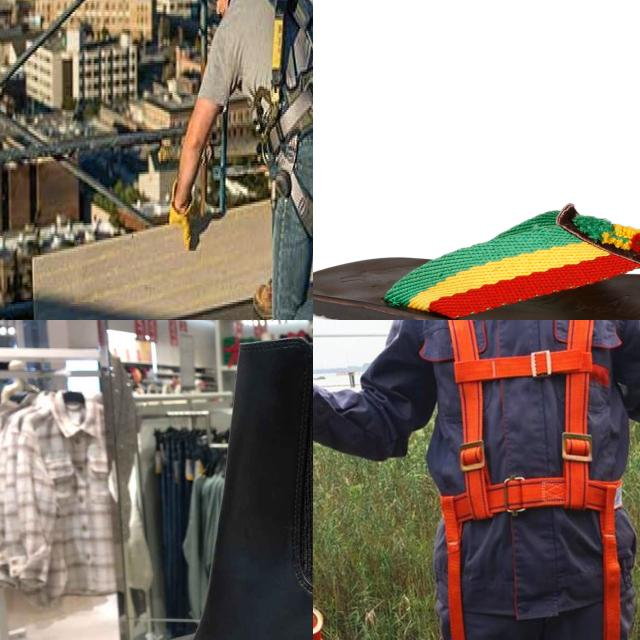Harness: (427, 320, 638, 640), (226, 0, 313, 167)
Sandals: (37, 320, 313, 640), (313, 201, 640, 320)
